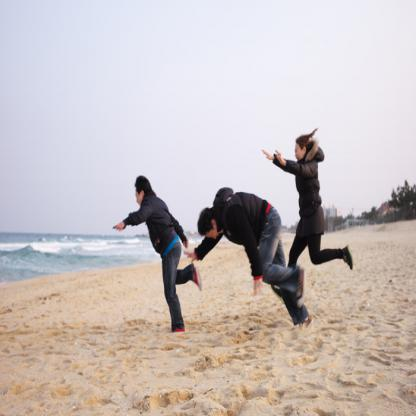Fall_Down: (184, 187, 314, 337)
